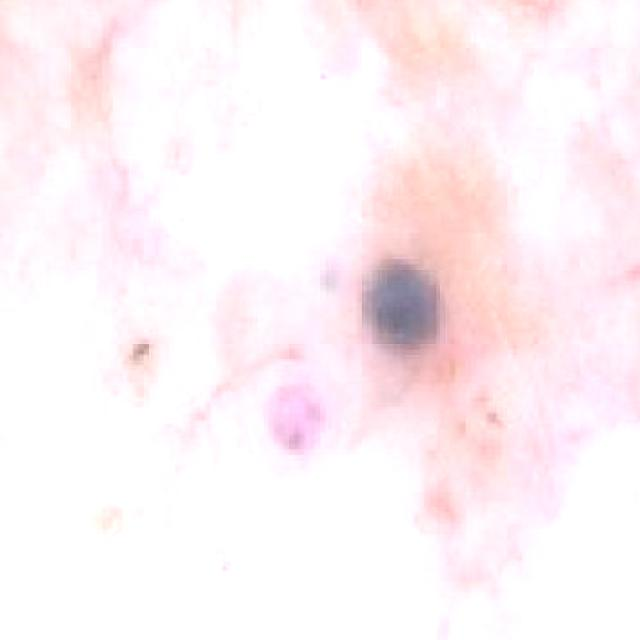BCC: (134, 0, 640, 553)
